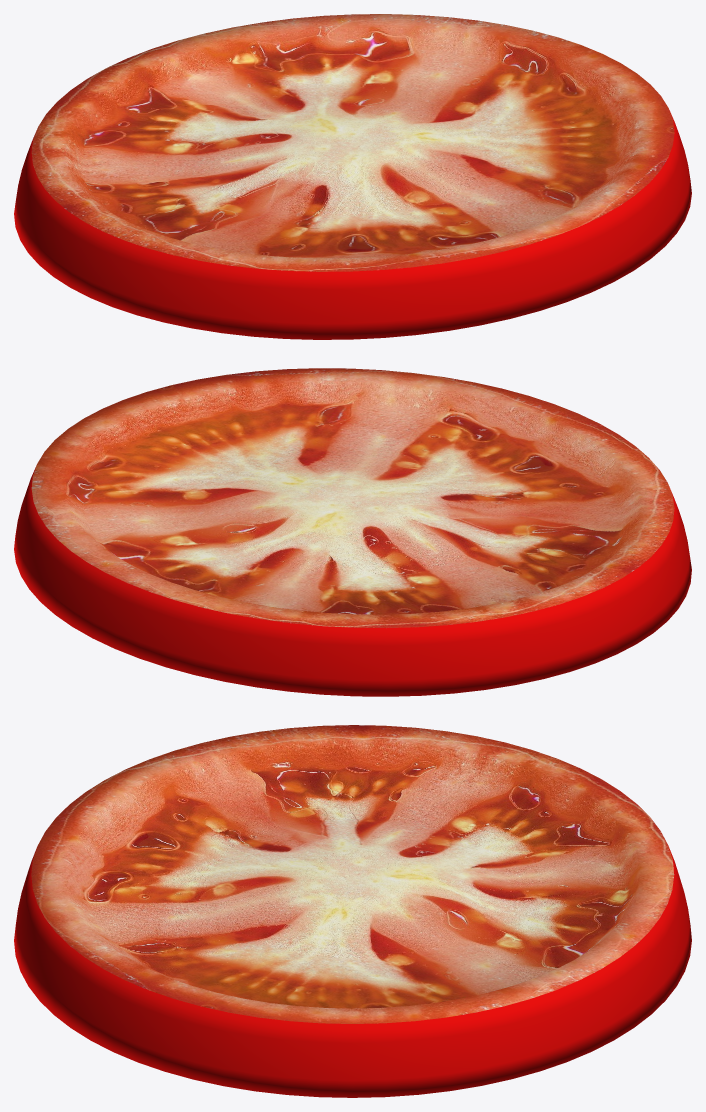
The model's file is slicedtomato.fbx.
3 views of the same model, one above another, from view 1: azimuth 30°, elevation 25°; view 2: azimuth 150°, elevation 25°; view 3: azimuth 270°, elevation 25° (orthographic). The views are drawn at different scales.
Parts seen in each view (by area): view 1: Sphere.002; view 2: Sphere.002; view 3: Sphere.002.
Boxes of the visible parts, bbox=[...] form: Sphere.002: bbox=[14, 14, 691, 339]; Sphere.002: bbox=[14, 368, 691, 696]; Sphere.002: bbox=[14, 725, 691, 1097].
Bounding box in the file's own units: 78.25 × 7.66 × 71.16.
